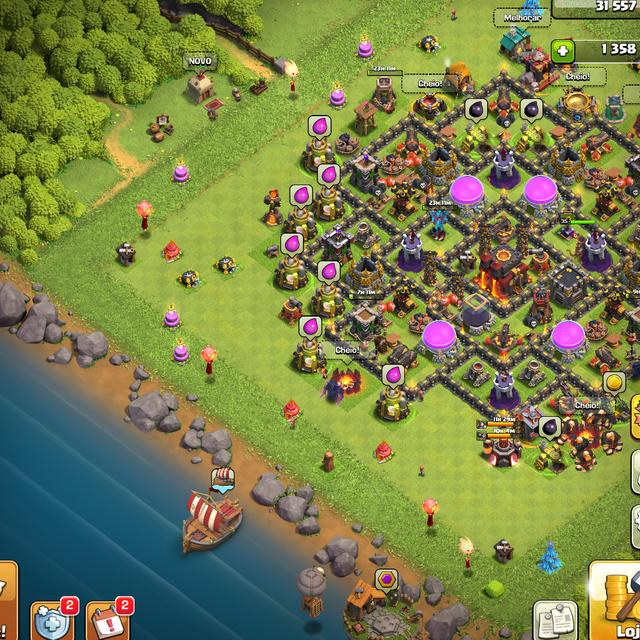Elixir: (298, 314, 322, 342), (308, 115, 332, 142), (280, 232, 304, 259), (317, 260, 341, 286), (382, 364, 405, 391), (317, 163, 340, 189), (290, 184, 312, 210)
ElixirNegro: (519, 98, 544, 125), (538, 416, 562, 442), (464, 98, 488, 124)
coin: (602, 371, 626, 397)
